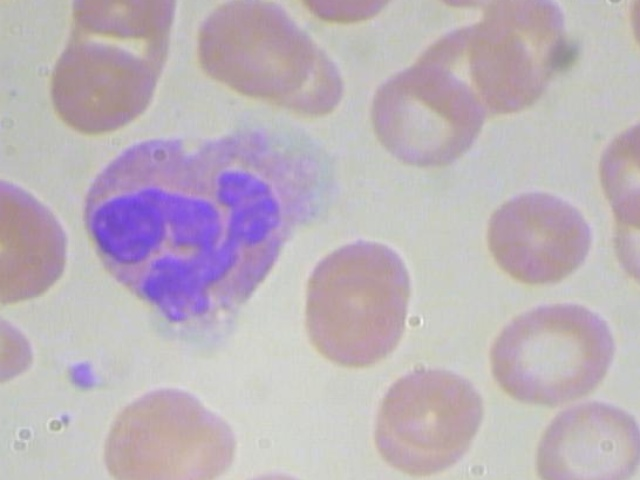Platelets: (56, 353, 111, 403)
RBC: (486, 294, 621, 407), (356, 62, 490, 174), (473, 182, 608, 282), (282, 267, 412, 368), (288, 237, 418, 338), (45, 34, 159, 133), (379, 361, 493, 459), (106, 384, 220, 480), (187, 0, 301, 90), (0, 190, 68, 302), (0, 177, 44, 289)
WBC: (52, 124, 352, 349)
